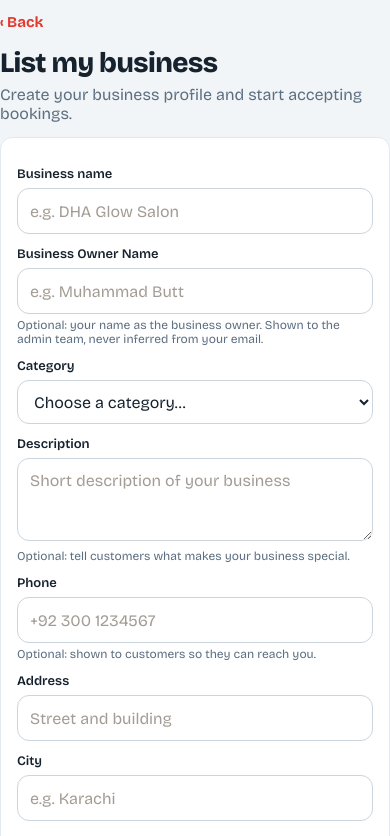
CreateBusinessScreen › handles BUSINESS_LIMIT_REACHED from the server even when the UI believed a slot was free
Check: the text "Business name" is shown, box [17,166,112,182]
In the field with placeholder "e.g. DHA Glow Salon": (195, 211) [17,188,373,234], type "Gulberg Grill"
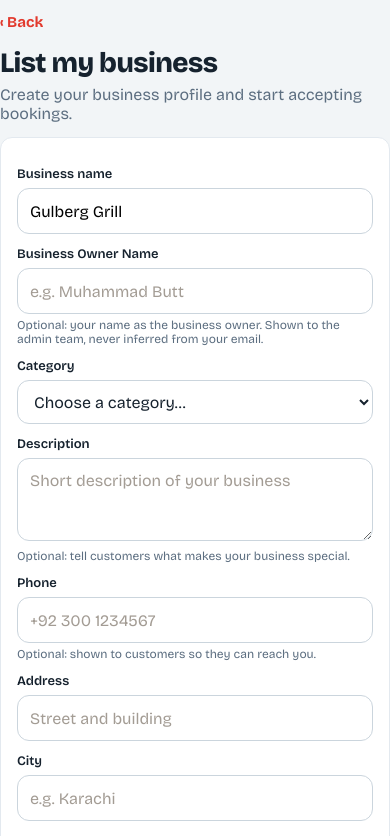
Select "Beauty & Spa" in the dropdown showing "Choose a category…": (195, 402) [17,380,373,424]
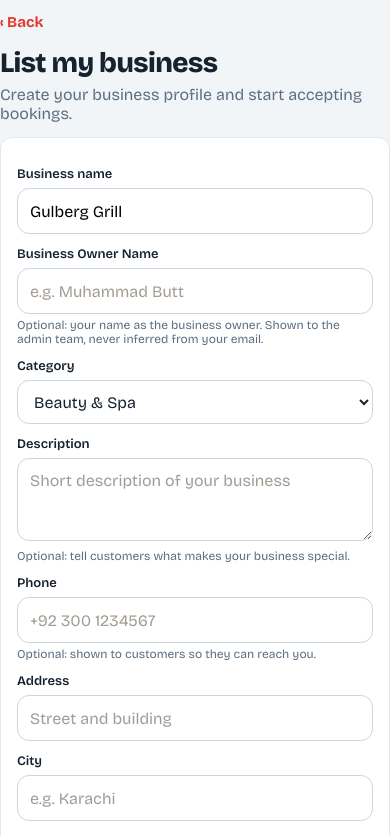
In the field with placeholder "Street and building": (195, 718) [17,695,373,741], type "12 Food Street"
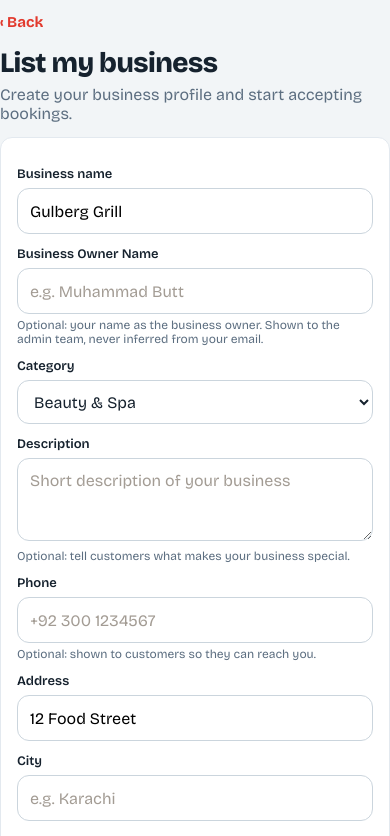
In the field with placeholder "e.g. Karachi": (195, 798) [17,775,373,821], type "Karachi"
(page scrolled)
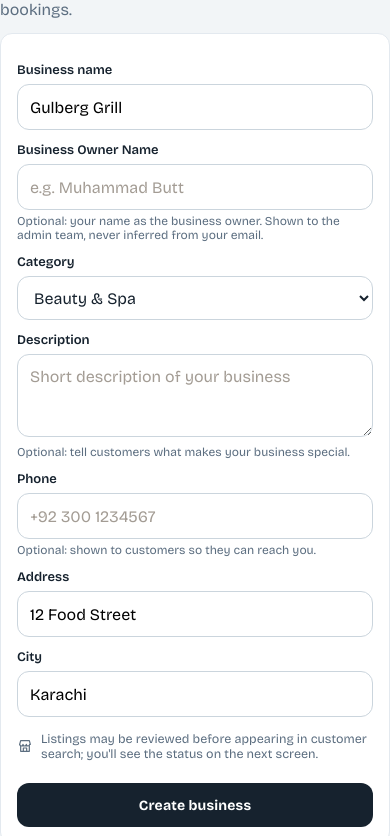
Click the button "Create business": (195, 805) [17,783,373,827]
(page scrolled)
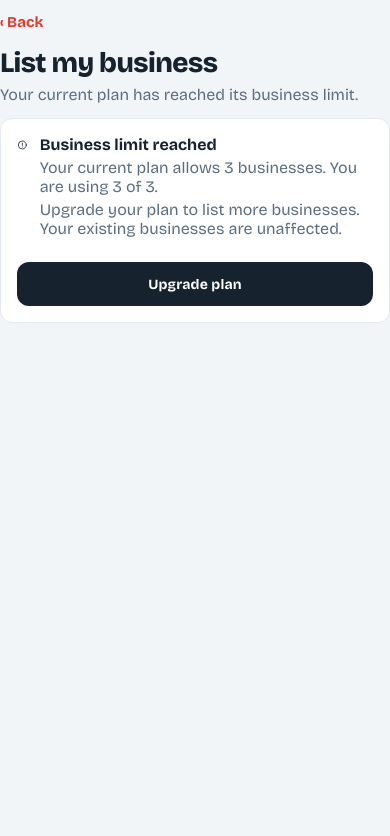
Check: the text "Business limit reached" is shown, box [40,135,217,154]
Check: the text "Your current plan allows 3 businesses. You are using 3 of 3." is shown, box [40,158,373,196]
Check: the button "Upgrade plan" is shown, box [17,262,373,306]
